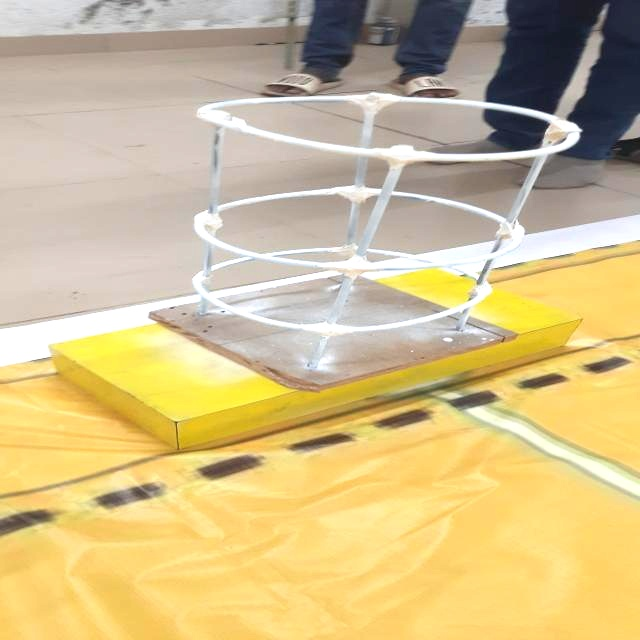silo: (124, 80, 603, 390)
